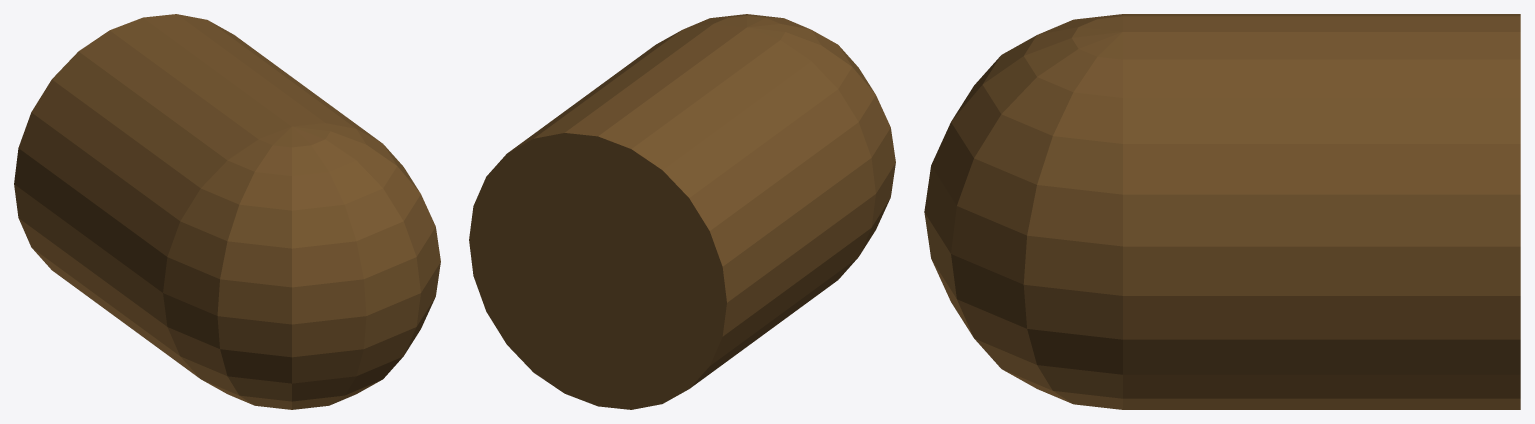
File: bullet.glb
The picture shows the model from 3 angles, left to right: view 1: azimuth 30°, elevation 25°; view 2: azimuth 150°, elevation 25°; view 3: azimuth 270°, elevation 25°; orthographic projection. The views are drawn at different scales.
Visible parts, largest first — view 1: Sphere; view 2: Sphere; view 3: Sphere.
Boxes of the visible parts, <box> form: Sphere: <box>14,14,440,409</box>; Sphere: <box>469,14,895,409</box>; Sphere: <box>924,14,1520,409</box>.
Size of the model in its own units: 0.2476 by 0.2476 by 0.3714.
